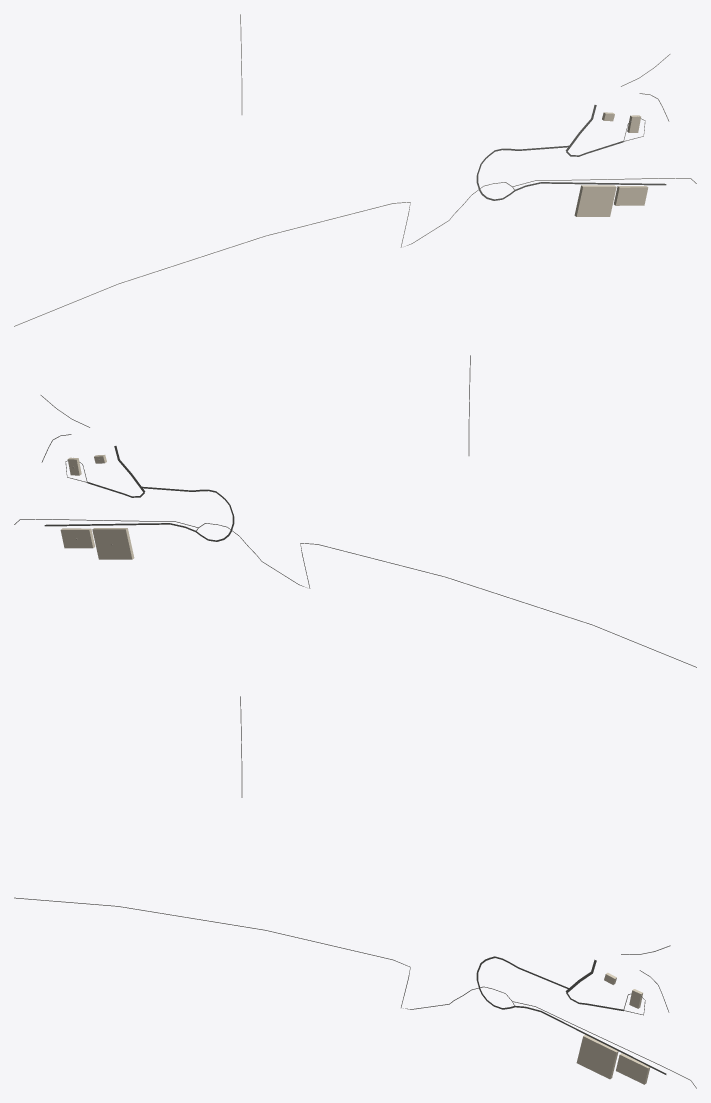
Rendered from historic-palestine-09_35_3511_3291.glb.
3 views of the same model, one above another, from view 1: azimuth 30°, elevation 25°; view 2: azimuth 150°, elevation 25°; view 3: azimuth 330°, elevation 25° (orthographic).
Visible parts, largest first — view 1: Building_.002, Road .006, Building_.003; view 2: Building_.002, Road .006, Building_.003; view 3: Building_.002, Road .006, Building_.003.
Part boxes in pixels (<box>): Building_.002: <box>574,185,616,216</box>; Road .006: <box>14,182,514,326</box>; Building_.003: <box>614,186,648,205</box>; Building_.002: <box>92,528,134,559</box>; Road .006: <box>196,523,696,667</box>; Building_.003: <box>60,528,95,548</box>; Building_.002: <box>576,1034,618,1079</box>; Road .006: <box>14,897,514,1009</box>; Building_.003: <box>616,1053,650,1084</box>.
Bounding box in the file's own units: 1438 × 590 × 8.7.
